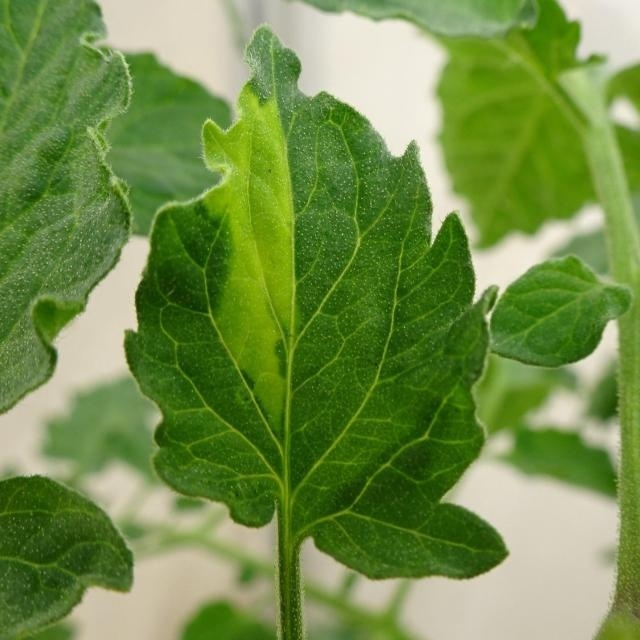T_L_R: (127, 35, 506, 579), (1, 1, 132, 414), (1, 476, 134, 640), (492, 257, 632, 369)
T_S_R: (277, 510, 306, 640)
